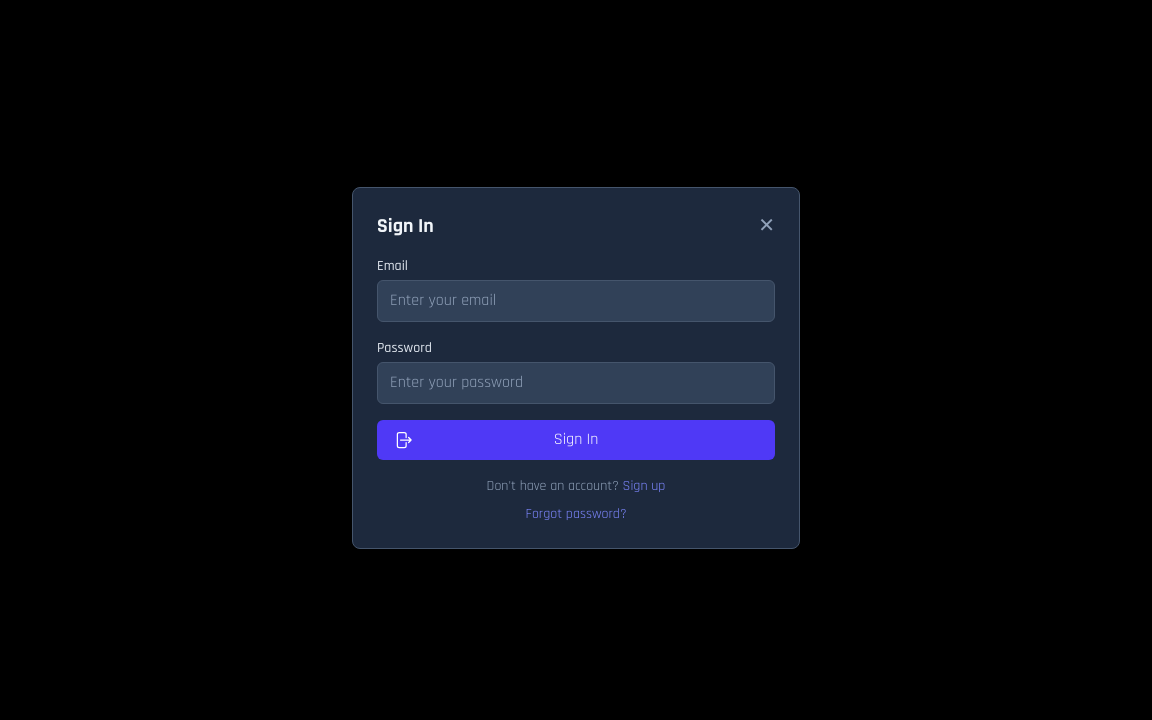
Test: AuthModal › Sign In Mode › should display loading state during sign in
Step 1. Type "test@example.com" into the field labelled "Email" → (576, 301), box [377, 280, 775, 322]
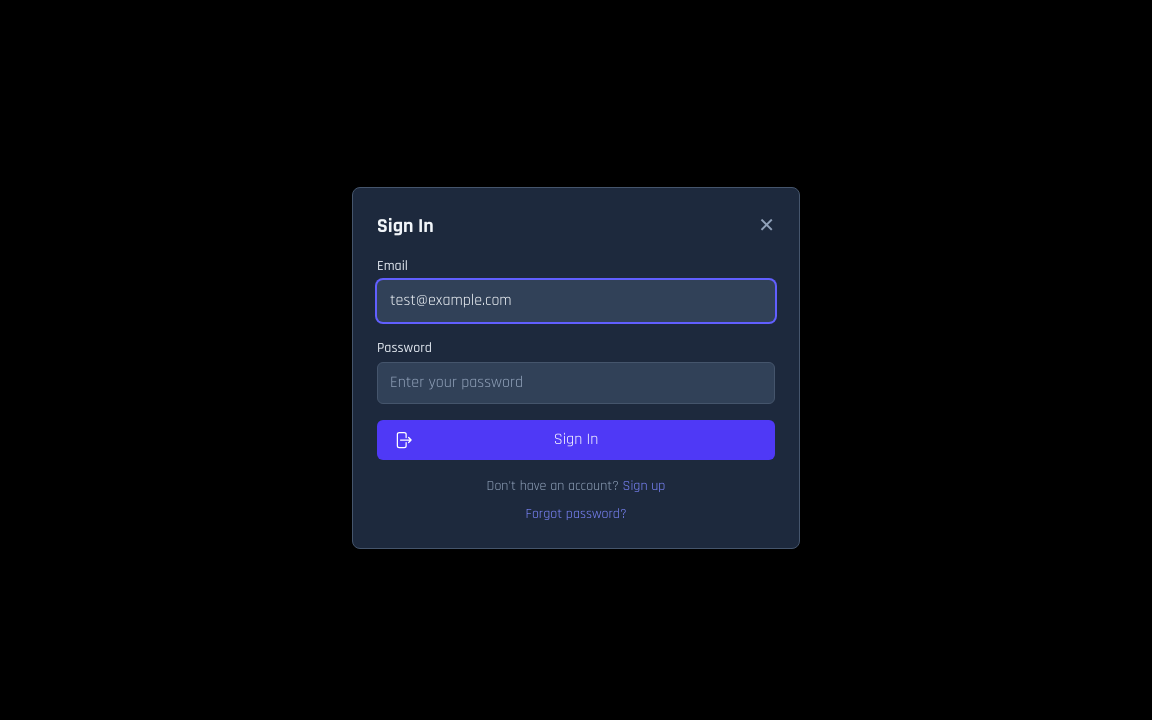
Step 2. Type "password123" into the password field labelled "Password" → (576, 383), box [377, 362, 775, 404]
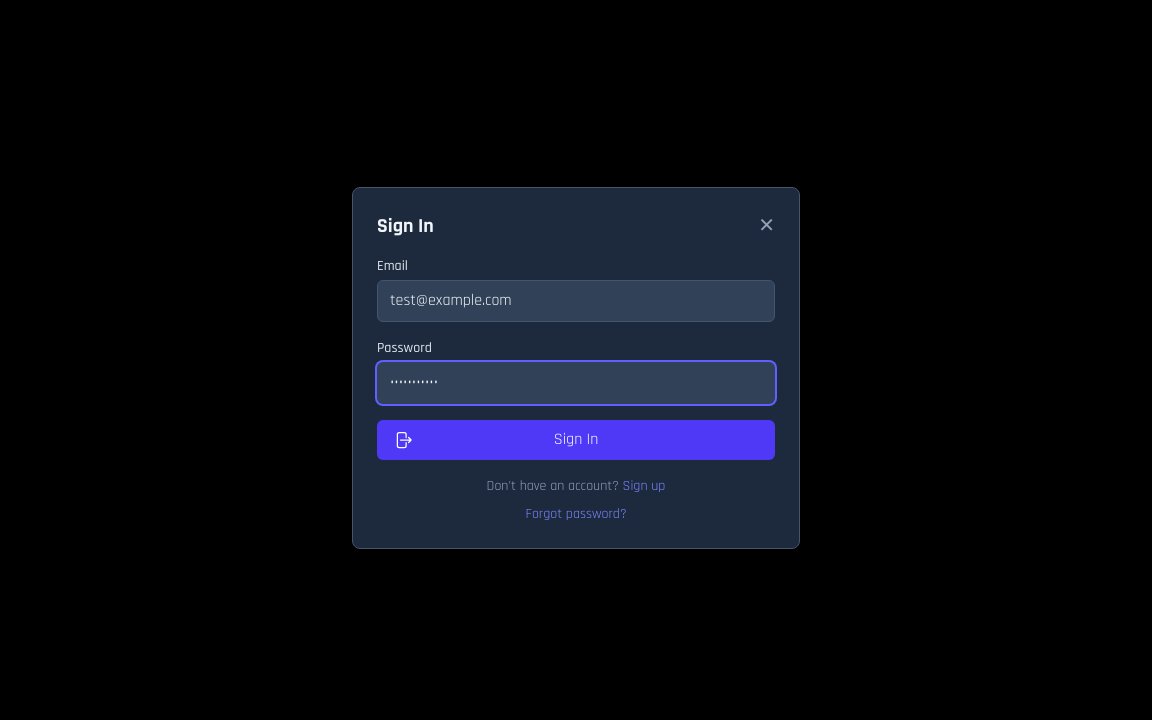
Step 3. Click the button "Sign In" → (576, 440), box [377, 420, 775, 460]
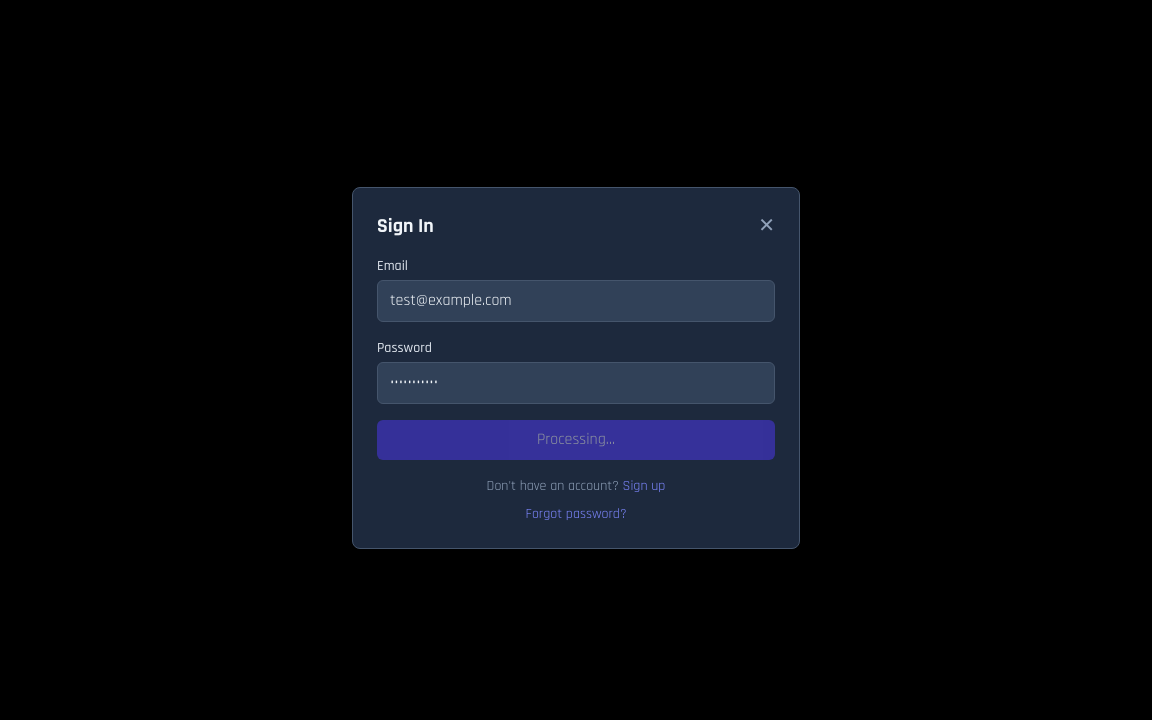
Expected: the button "Processing..." is disabled, [377, 420, 775, 460]
